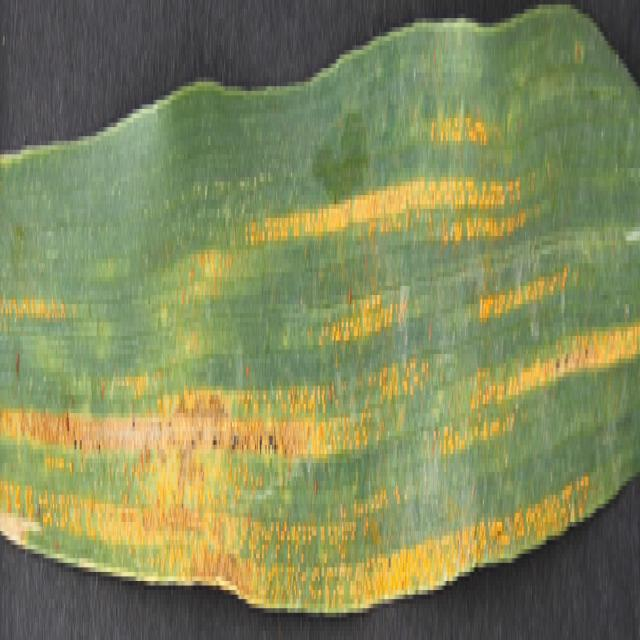leaf rust: (0, 91, 640, 622)
